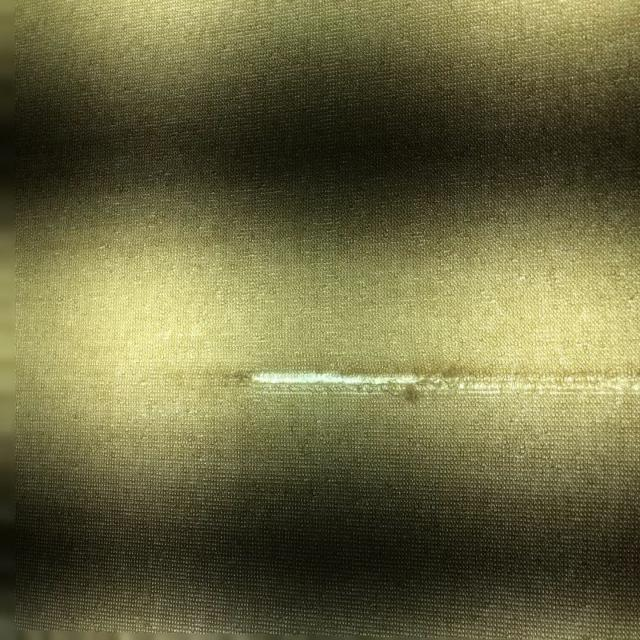Warp_Weft: (251, 369, 640, 391)
